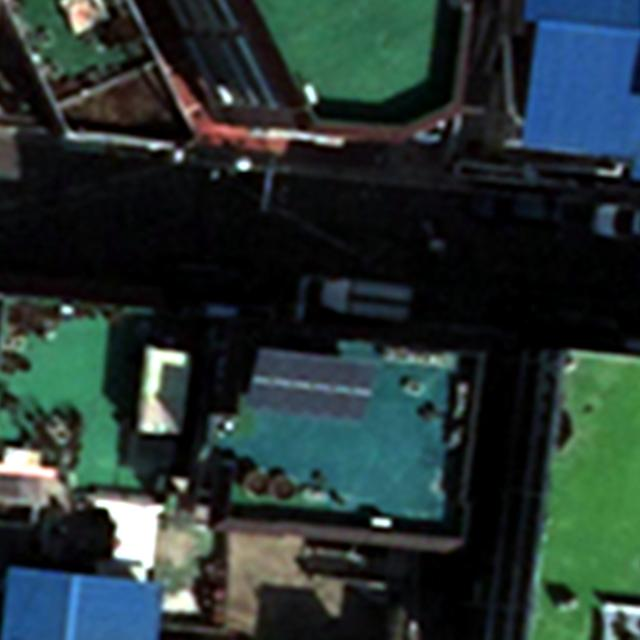solarpanel: (240, 342, 377, 424)
